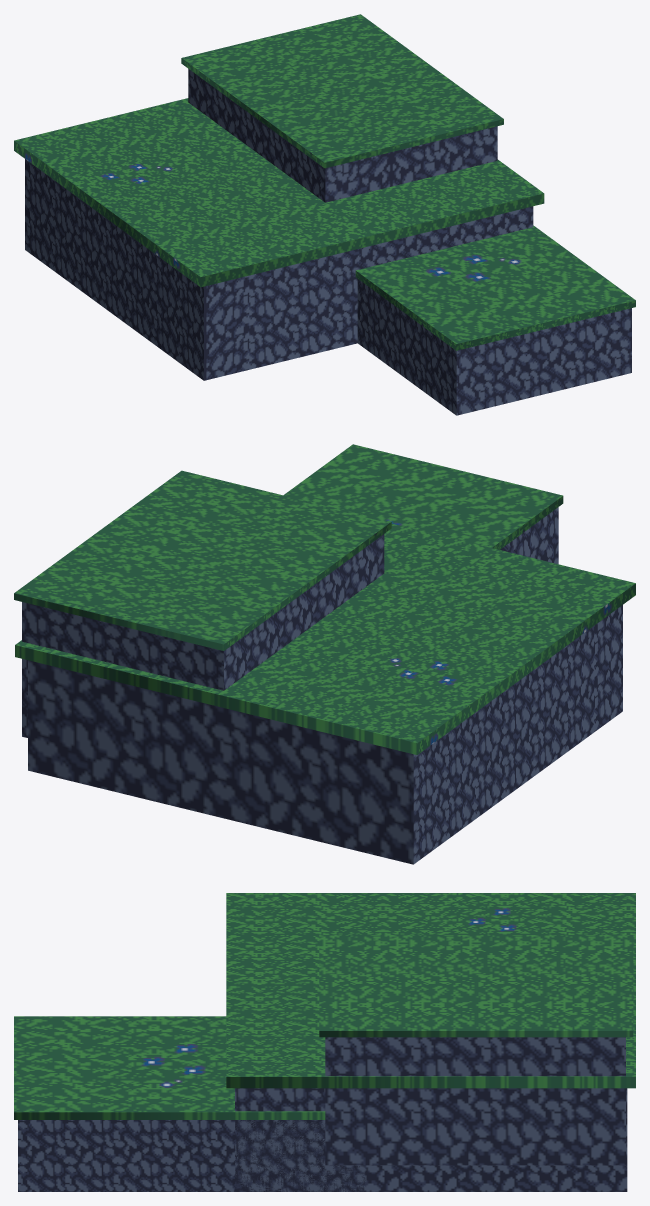
The model's file is Chao2Pequeno.fbx.
3 renders of one model, top to bottom at view 1: azimuth 30°, elevation 25°; view 2: azimuth 150°, elevation 25°; view 3: azimuth 270°, elevation 25°, orthographic. The views are drawn at different scales.
Visible parts, largest first — view 1: Chao2Pequeno; view 2: Chao2Pequeno; view 3: Chao2Pequeno.
Boxes of the visible parts, <box> form: Chao2Pequeno: <box>14,14,635,415</box>; Chao2Pequeno: <box>14,444,635,864</box>; Chao2Pequeno: <box>14,893,635,1191</box>.
Size of the model in its own units: 2041 by 2900 by 853.
